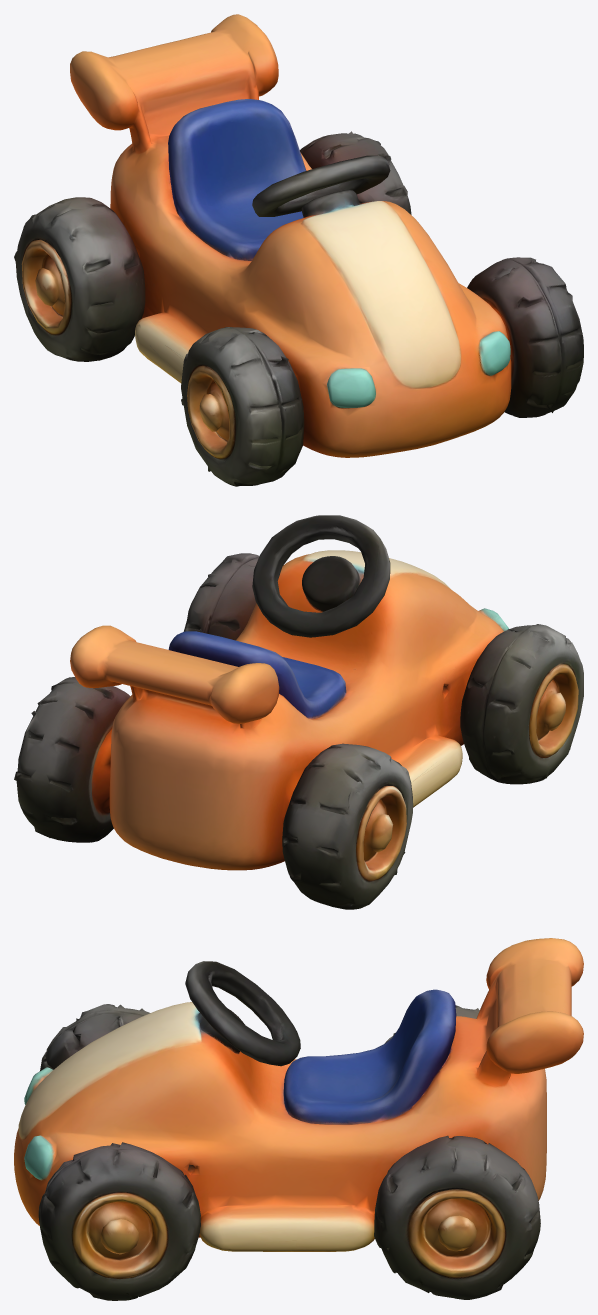
Rendered from racer-detail.glb.
The picture shows the model from 3 angles, top to bottom: view 1: azimuth 30°, elevation 25°; view 2: azimuth 150°, elevation 25°; view 3: azimuth 270°, elevation 25°; orthographic projection.
Parts seen in each view (by area): view 1: tripo_node_63119081-cbc3-49d3-9689-aeb6b0c9e622; view 2: tripo_node_63119081-cbc3-49d3-9689-aeb6b0c9e622; view 3: tripo_node_63119081-cbc3-49d3-9689-aeb6b0c9e622.
Boxes of the visible parts, box(x1,y1,x2,y2) form: tripo_node_63119081-cbc3-49d3-9689-aeb6b0c9e622: box(14, 14, 583, 486); tripo_node_63119081-cbc3-49d3-9689-aeb6b0c9e622: box(14, 515, 583, 909); tripo_node_63119081-cbc3-49d3-9689-aeb6b0c9e622: box(14, 938, 583, 1300).
Size of the model in its own units: 0.7159 by 0.4833 by 0.9798.
Materials: 1 (1 with a texture image).
